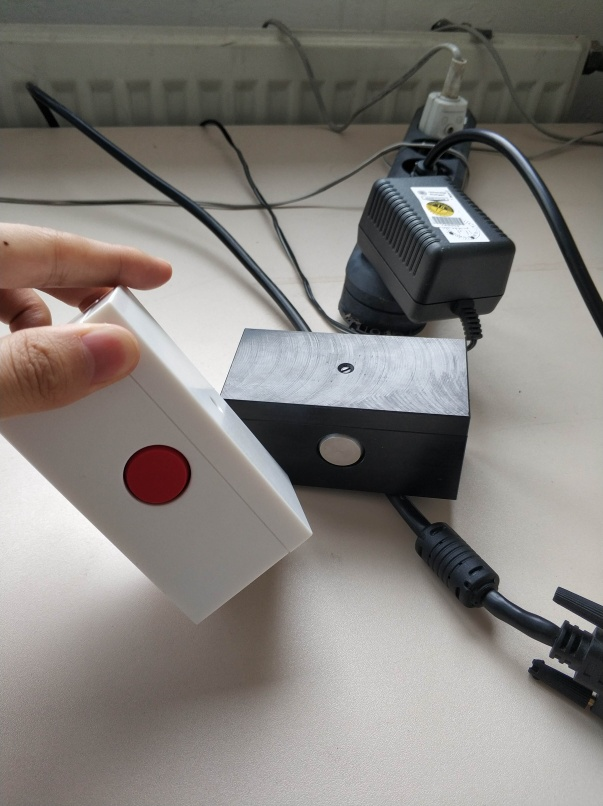black+black+silver: (209, 323, 476, 498)
white+white+red: (1, 277, 313, 633)
